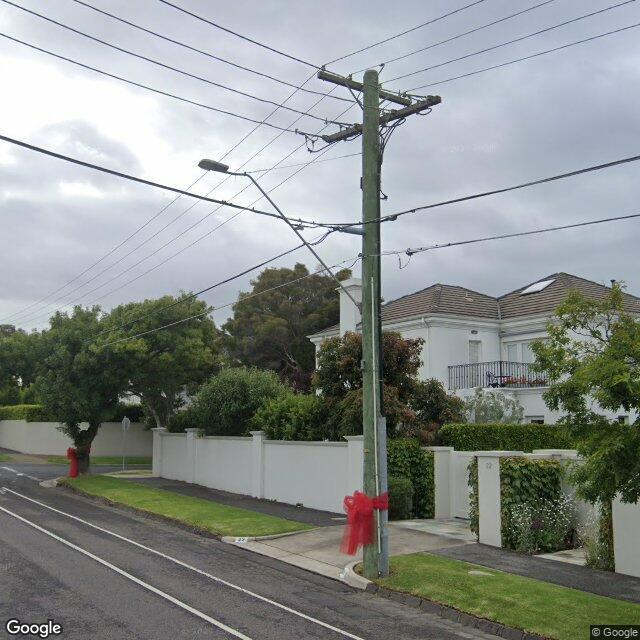crossarm: (294, 95, 442, 153), (317, 66, 412, 106)
streetlight: (198, 157, 363, 314)
timber-pole: (364, 70, 391, 578)
